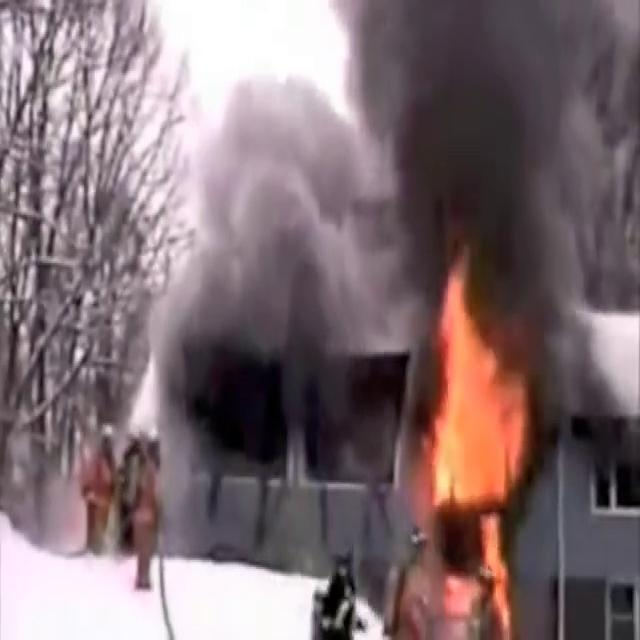Fire: (416, 262, 532, 630)
Smoke: (139, 6, 397, 536), (326, 0, 614, 347)
